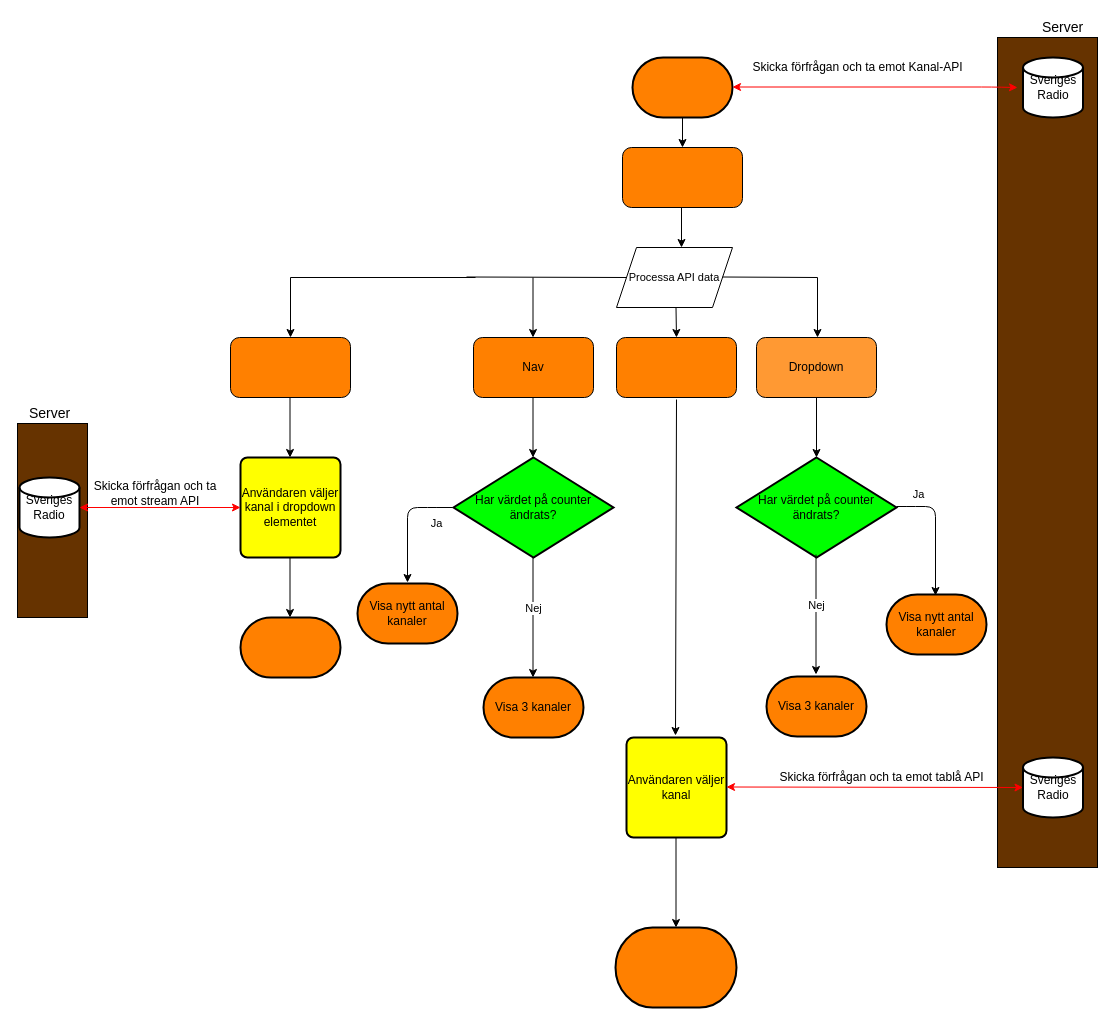
This 1115x1025 diagram has some shape labels left out. Each missing label, with the centre of its shape:
Info: the point at 676,367
Player: the point at 290,367
Sidan laddas: the point at 682,87
Spela upp vald kanal: the point at 290,647
Sätt värde på counter till 3: the point at 682,177
Visa tablå för vald kanal: the point at 675,967
